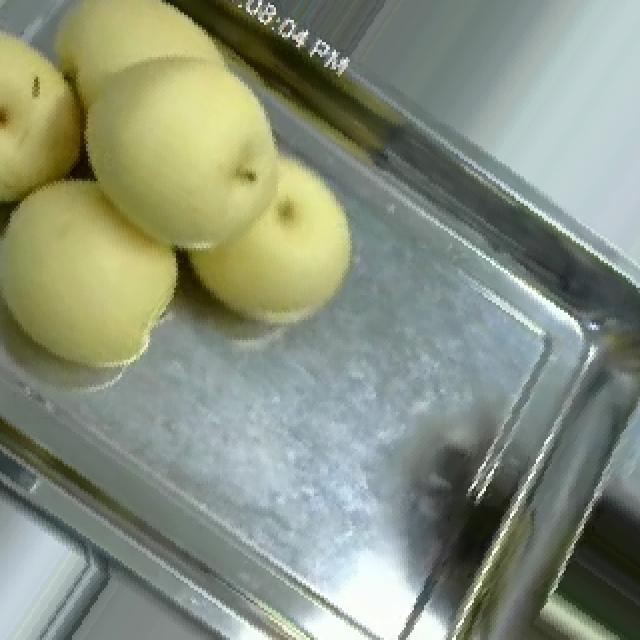Fruit: (0, 0, 308, 260), (158, 67, 376, 347), (0, 126, 208, 392)
